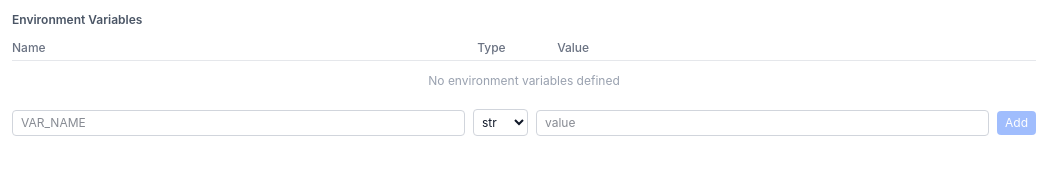
Test: EnvVarEditor › adding a variable › adds a variable on Enter key in name field
Type "FLAG" into the field with test id "env-var-add-name".
click(238, 122); type("FLAG")  # box [12,110,465,136]
Then press Enter
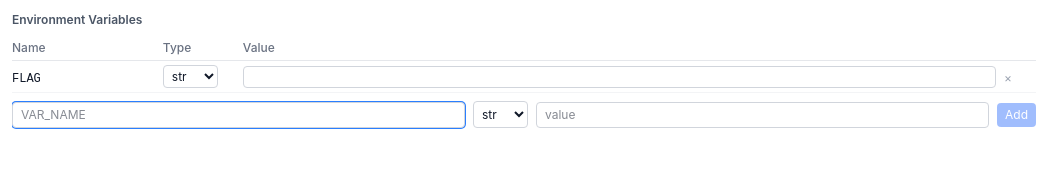
Now the text "FLAG" is shown, box [12,72,41,86]
